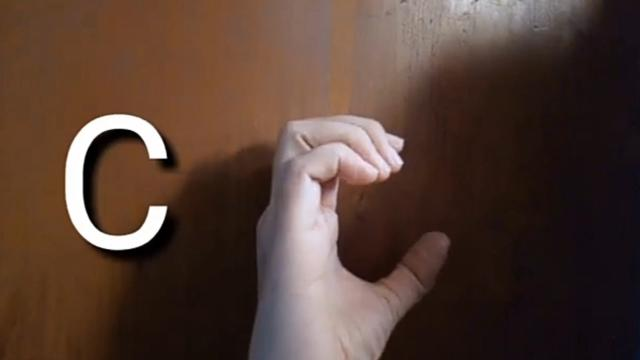C: (253, 112, 451, 360)
